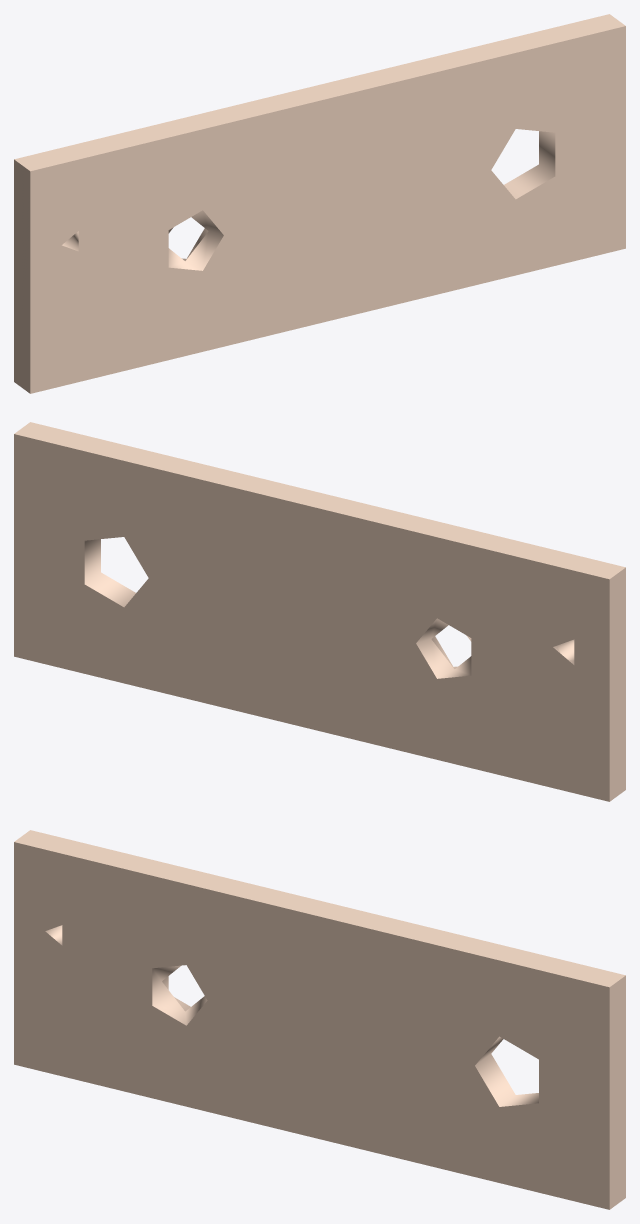
The model's file is Pont bascule des Heures - plaque.obj.
3 views of the same model, one above another, from view 1: azimuth 30°, elevation 25°; view 2: azimuth 150°, elevation 25°; view 3: azimuth 330°, elevation 25° (orthographic).
Parts seen in each view (by area): view 1: Face_5, Face_4, Face_1, Face_7, Face_10; view 2: Face_6, Face_4, Face_1, Face_7, Face_9; view 3: Face_5, Face_4, Face_3, Face_7, Face_10.
Part boxes in pixels (x1,y1,x2,y2): Face_5: (30, 26, 625, 393); Face_4: (14, 14, 625, 171); Face_1: (14, 159, 30, 393); Face_7: (504, 131, 555, 199); Face_10: (168, 210, 223, 270); Face_6: (14, 434, 609, 801); Face_4: (14, 422, 625, 579); Face_1: (609, 567, 625, 801); Face_7: (84, 539, 135, 607); Face_9: (416, 618, 471, 678); Face_5: (14, 842, 609, 1209); Face_4: (14, 830, 625, 987); Face_3: (609, 975, 625, 1209); Face_7: (475, 1036, 538, 1106); Face_10: (152, 965, 207, 1025).
Size of the model in its own units: 0.042 by 0.015 by 0.002.
